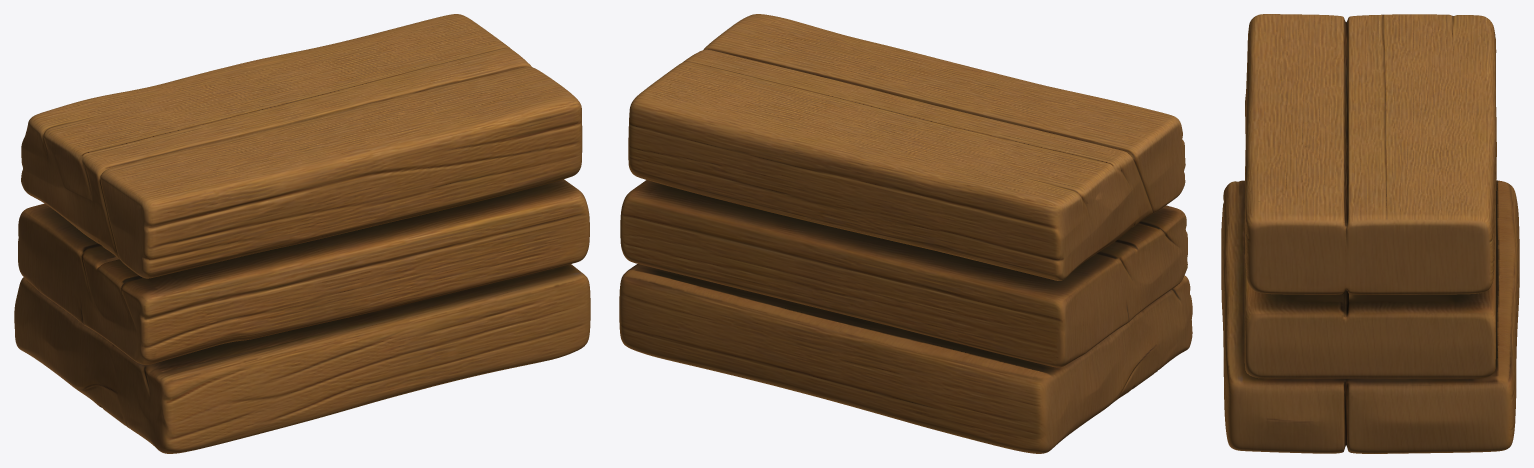
File: wood.fbx
3 views of the same model, side by side, from view 1: azimuth 30°, elevation 25°; view 2: azimuth 150°, elevation 25°; view 3: azimuth 270°, elevation 25° (orthographic). The views are drawn at different scales.
Parts seen in each view (by area): view 1: node_0; view 2: node_0; view 3: node_0.
Part boxes in pixels (x1,y1,x2,y2): node_0: (14, 14, 590, 453); node_0: (619, 14, 1192, 453); node_0: (1221, 14, 1519, 453).
Size of the model in its own units: 98.45 by 52.08 by 58.46.
